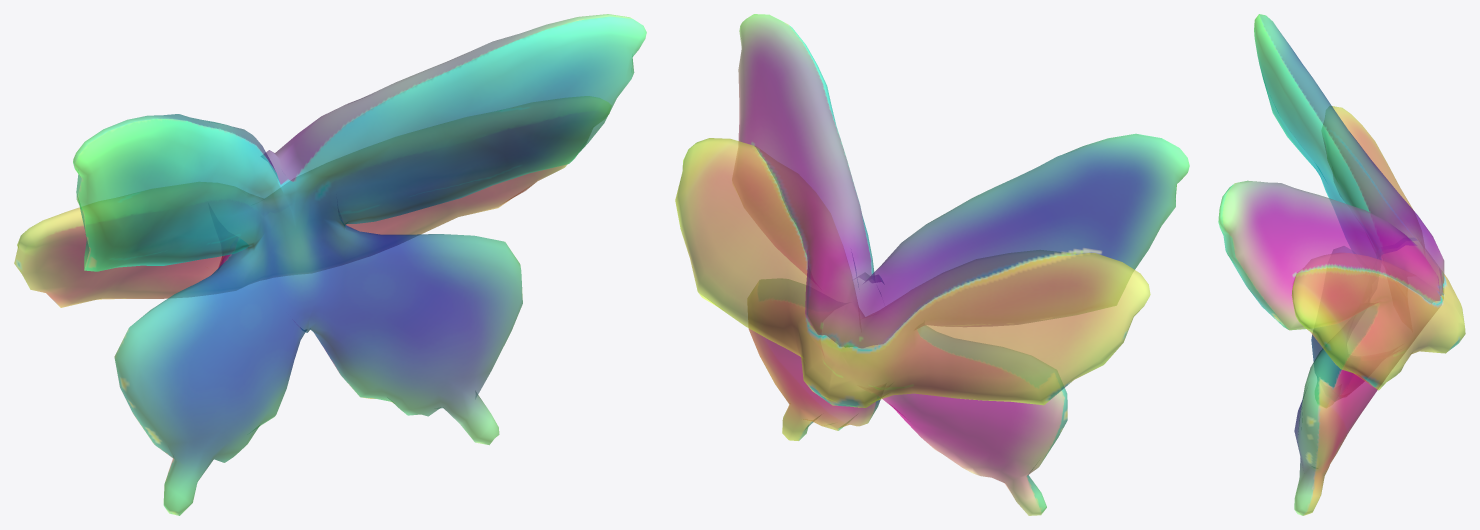
Rendered from Retopo_butterfly.002.glb.
3 views of the same model, side by side, from view 1: azimuth 30°, elevation 25°; view 2: azimuth 150°, elevation 25°; view 3: azimuth 270°, elevation 25° (orthographic). The views are drawn at different scales.
Visible parts, largest first — view 1: Retopo_butterfly.002; view 2: Retopo_butterfly.002; view 3: Retopo_butterfly.002.
Part boxes in pixels (<box>): Retopo_butterfly.002: <box>14,14,646,515</box>; Retopo_butterfly.002: <box>675,14,1189,515</box>; Retopo_butterfly.002: <box>1218,14,1465,515</box>.
Bounding box in the file's own units: 0.1171 × 0.0889 × 0.0558.
Materials: 1 (1 with a texture image).
